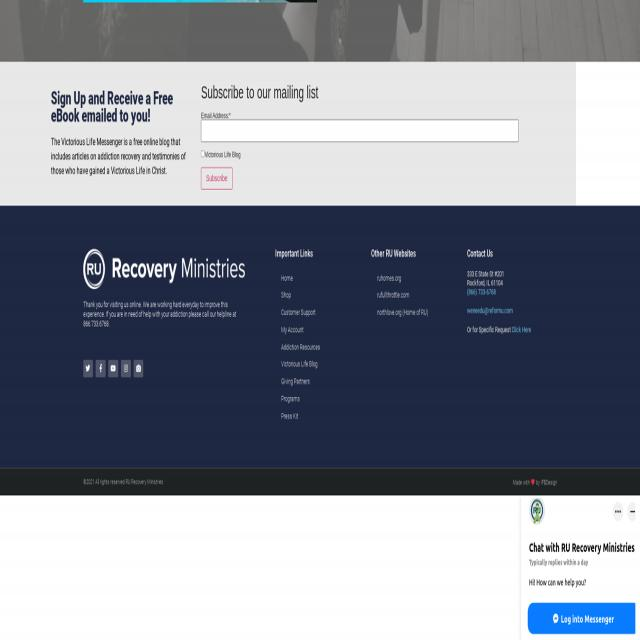button: (83, 249, 245, 288), (528, 600, 635, 634), (201, 167, 233, 189), (528, 499, 545, 525), (83, 360, 93, 378), (96, 360, 106, 378), (108, 360, 118, 378), (121, 360, 131, 378), (134, 360, 144, 378), (613, 502, 623, 520), (628, 503, 637, 519)
field: (201, 121, 519, 142), (200, 150, 204, 158)
